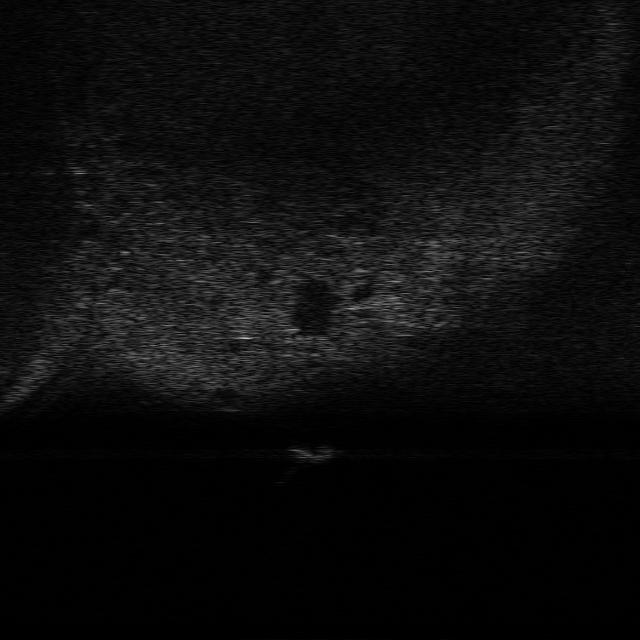cube: (288, 440, 344, 465)
